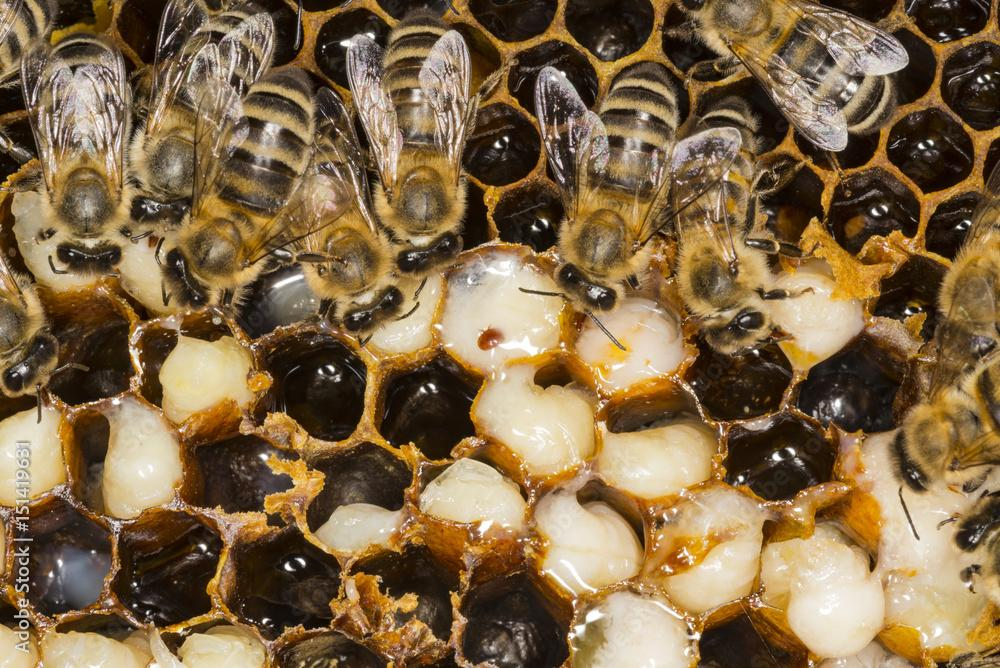worker-bee: (346, 9, 505, 278), (158, 65, 315, 308), (534, 62, 679, 313), (682, 0, 908, 151), (128, 0, 274, 231), (675, 98, 792, 354), (21, 32, 129, 277)
